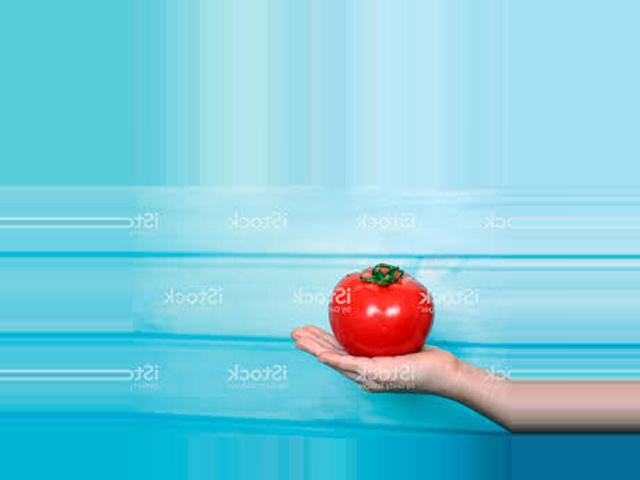tomato: (328, 265, 431, 357)
